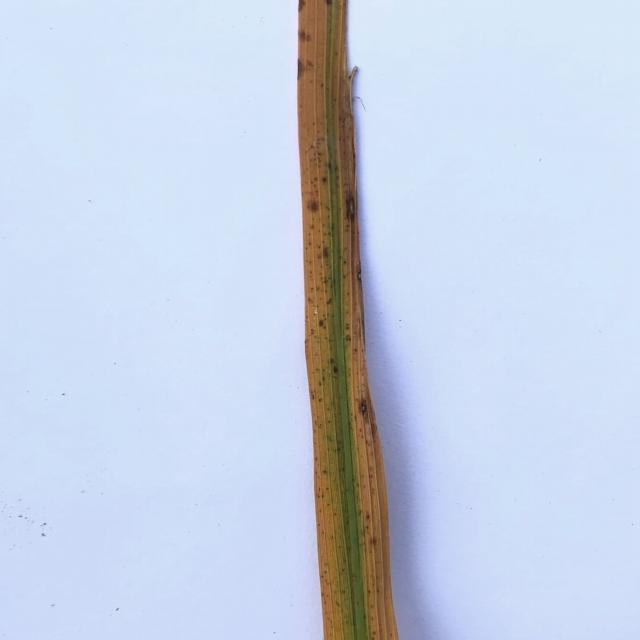tungro: (295, 0, 409, 640)
